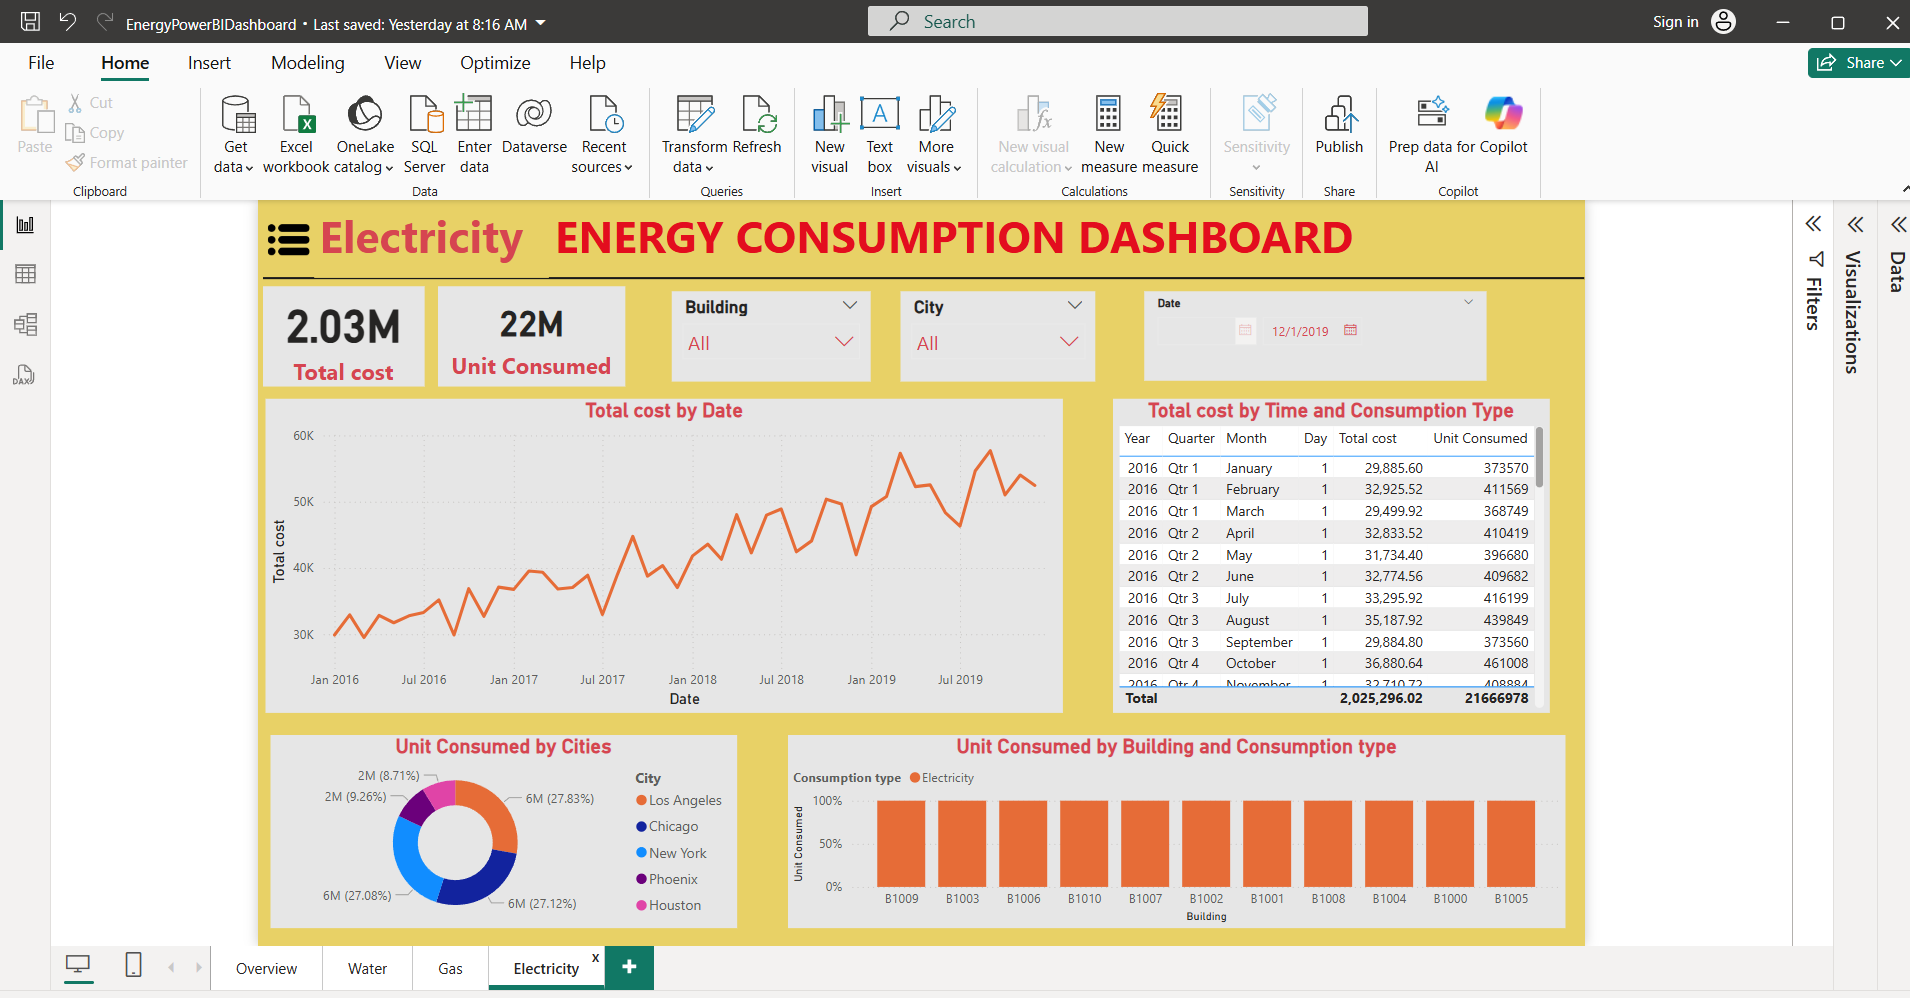

This screenshot's page, from the dashboard's own definition file:
{"tool":"powerbi","page":{"name":"Electricity","canvas":[1280,720],"ordinal":3},"visuals":[{"type":"textbox","box":[11.3,0,1268.7,101.6],"z":0},{"type":"shape","box":[4.8,0,1275.2,150.8],"z":1000},{"type":"textbox","box":[54.9,0,226.4,75.5],"z":2000},{"type":"image","box":[4.8,0,49.5,76],"z":3000},{"type":"card","fields":{"Values":["Energy Consumptions.Total cost"]},"box":[4.8,83.2,155.6,96.5],"z":4000},{"type":"card","fields":{"Values":["Energy Consumptions.Unit Consumed"]},"box":[173.7,83.2,181,96.5],"z":5000},{"type":"slicer","fields":{"Values":["Energy Consumptions.Building"]},"box":[399.3,88.1,191.8,86.9],"z":6000},{"type":"slicer","fields":{"Values":["Building Master.City"]},"box":[620.1,88.1,188.2,86.9],"z":7000},{"type":"slicer","fields":{"Values":["Energy Consumptions.Date"]},"box":[854.9,87.8,330.7,86.4],"z":8000},{"type":"donutChart","title":"Unit Consumed by Cities","fields":{"Y":["Energy Consumptions.Unit Consumed"],"Category":["Building Master.City"]},"box":[12.3,516,450.1,186.6],"z":9000},{"type":"tableEx","title":"Total cost by Time and Consumption Type","fields":{"Values":["Energy Consumptions.Date.Variation.Date Hierarchy.Year","Energy Consumptions.Date.Variation.Date Hierarchy.Quarter","Energy Consumptions.Date.Variation.Date Hierarchy.Month","Energy Consumptions.Date.Variation.Date Hierarchy.Day","Energy Consumptions.Total cost","Energy Consumptions.Unit Consumed"]},"box":[824.7,192.1,421.3,303.3],"z":10000},{"type":"hundredPercentStackedColumnChart","fields":{"Y":["Energy Consumptions.Unit Consumed"],"Category":["Energy Consumptions.Building"],"Series":["Energy Consumptions.Consumption type"]},"box":[511.8,516,750.6,186.6],"z":11000},{"type":"lineChart","fields":{"Y":["Energy Consumptions.Total cost"],"Category":["Energy Consumptions.Date"]},"box":[6.9,192.1,769.8,303.3],"z":12000}]}

Visuals, with their boxes on the page's 1280x720 design canvas (x1, y1, x2, y2). These are canvas units, not pixel positions in the 1910x998 screenshot, which may show the page scaled, cropped or inside an application window:
textbox: (x1=11, y1=0, x2=1280, y2=102)
shape: (x1=5, y1=0, x2=1280, y2=151)
textbox: (x1=55, y1=0, x2=281, y2=76)
image: (x1=5, y1=0, x2=54, y2=76)
card - Energy Consumptions.Total cost: (x1=5, y1=83, x2=160, y2=180)
card - Energy Consumptions.Unit Consumed: (x1=174, y1=83, x2=355, y2=180)
slicer - Energy Consumptions.Building: (x1=399, y1=88, x2=591, y2=175)
slicer - Building Master.City: (x1=620, y1=88, x2=808, y2=175)
slicer - Energy Consumptions.Date: (x1=855, y1=88, x2=1186, y2=174)
"Unit Consumed by Cities" donutChart: (x1=12, y1=516, x2=462, y2=703)
"Total cost by Time and Consumption Type" tableEx: (x1=825, y1=192, x2=1246, y2=495)
hundredPercentStackedColumnChart - Energy Consumptions.Unit Consumed x Energy Consumptions.Building: (x1=512, y1=516, x2=1262, y2=703)
lineChart - Energy Consumptions.Total cost x Energy Consumptions.Date: (x1=7, y1=192, x2=777, y2=495)
